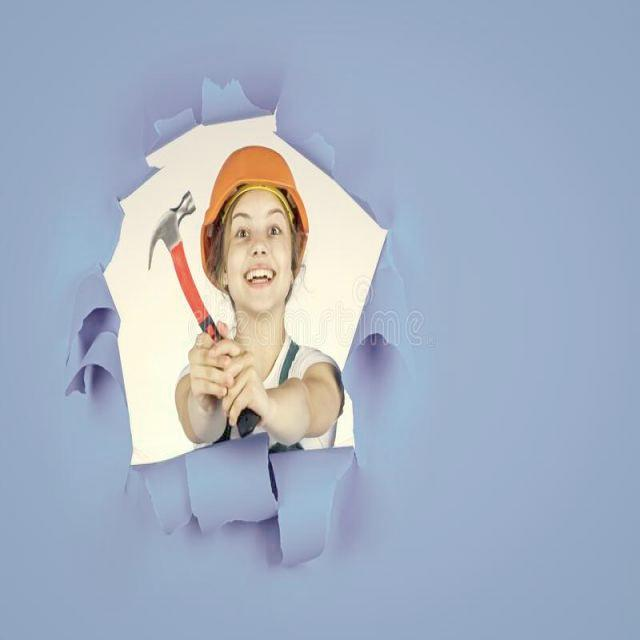hammer: (136, 189, 260, 440)
